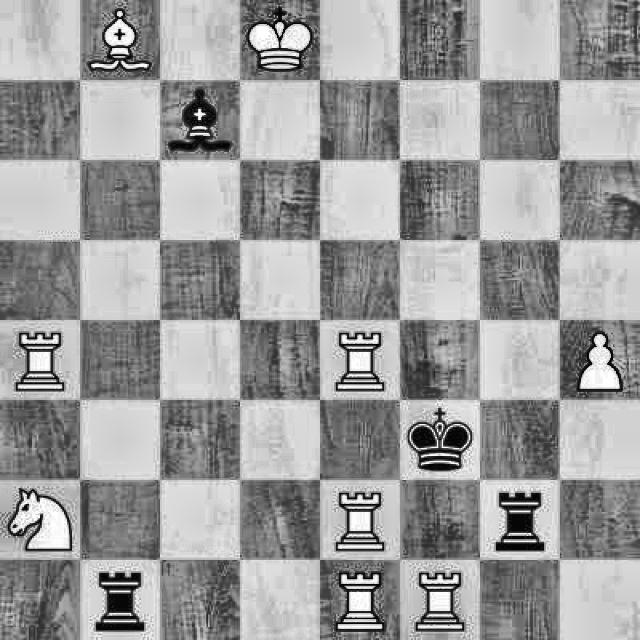black bishop: (164, 84, 234, 156)
black king: (405, 399, 474, 474)
black rook: (482, 482, 558, 559), (81, 564, 158, 638)
white bishop: (89, 2, 153, 76)
white king: (248, 2, 314, 76)
white pawn: (568, 318, 626, 392)
white rook: (9, 320, 74, 398), (326, 567, 392, 640), (416, 563, 474, 640), (330, 330, 395, 397), (334, 491, 391, 552)
whiteknight: (6, 490, 75, 557)
